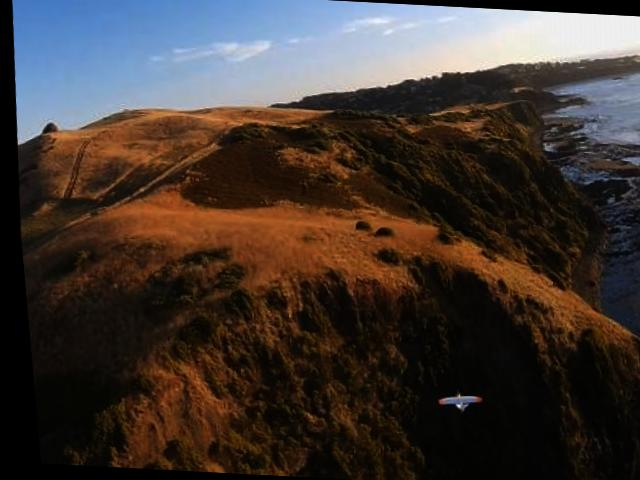uav: (428, 386, 478, 417)
